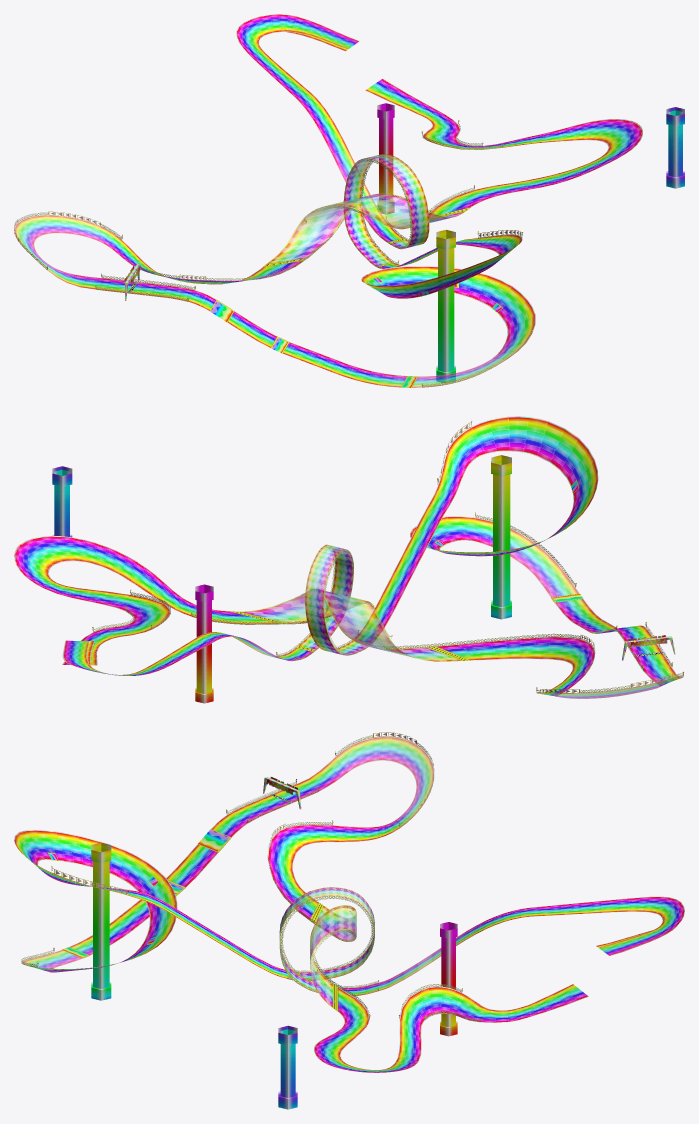
3 views of the same model, one above another, from view 1: azimuth 30°, elevation 25°; view 2: azimuth 150°, elevation 25°; view 3: azimuth 270°, elevation 25° (orthographic). The views are drawn at different scales.
Parts seen in each view (by area): view 1: polygon17; view 2: polygon17; view 3: polygon17.
Boxes of the visible parts, left/top/right/bottom form: polygon17: left=14, top=14, right=684, bottom=387; polygon17: left=14, top=416, right=683, bottom=703; polygon17: left=14, top=732, right=684, bottom=1109.
Bounding box in the file's own units: 78.34 × 71.22 × 18.3.
Materials: 22 (22 with a texture image).
